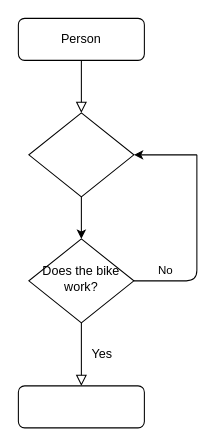
Some shapes in this 224 by 446 pixel diagram are drawn without their labels. The shapes that lost their labels are listed below. From the top down, each one's centre as x and y in pixels, then its label:
At (x=81, y=154): "Docking Station".
At (x=80, y=406): "Release the Bike".
